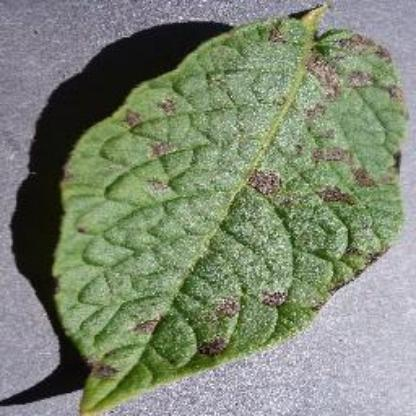Early-Blight: (41, 10, 409, 408)
